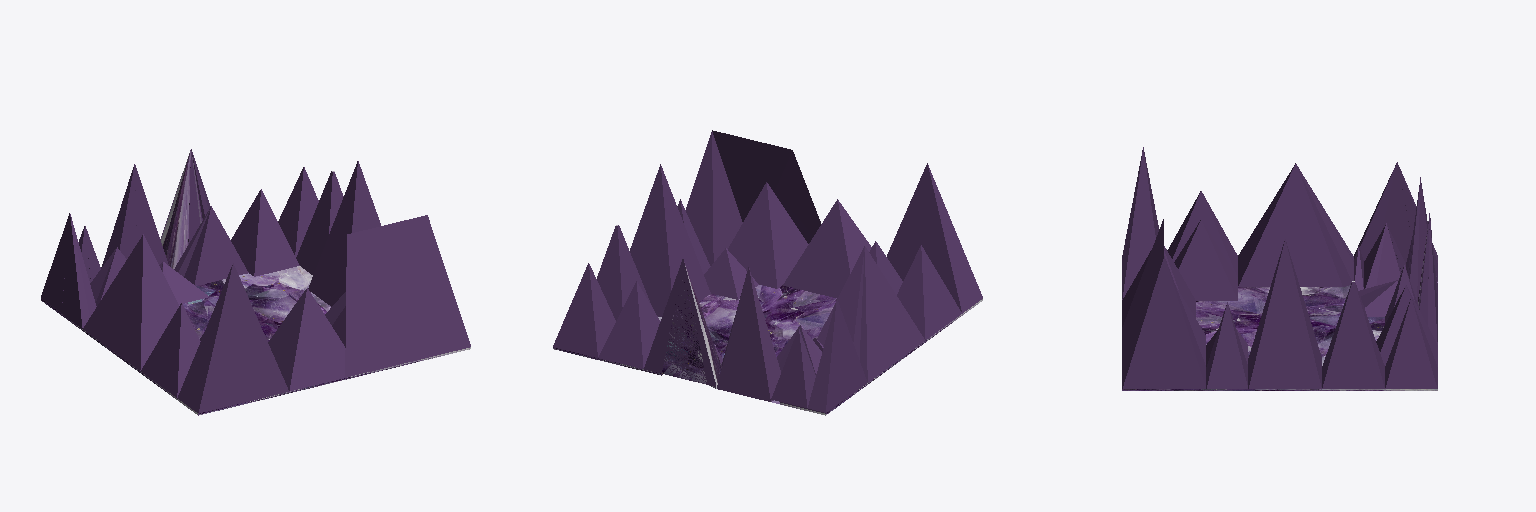
The picture shows the model from 3 angles: view 1: azimuth 30°, elevation 25°; view 2: azimuth 150°, elevation 25°; view 3: azimuth 270°, elevation 25°; orthographic projection.
Parts seen in each view (by area): view 1: ground; view 2: ground; view 3: ground.
Part boxes in pixels (bbox=[...]): ground: bbox=[41, 149, 470, 415]; ground: bbox=[553, 130, 982, 415]; ground: bbox=[1122, 147, 1437, 390].
Size of the model in its own units: 150 by 72.04 by 150.
1 materials, 1 textured.